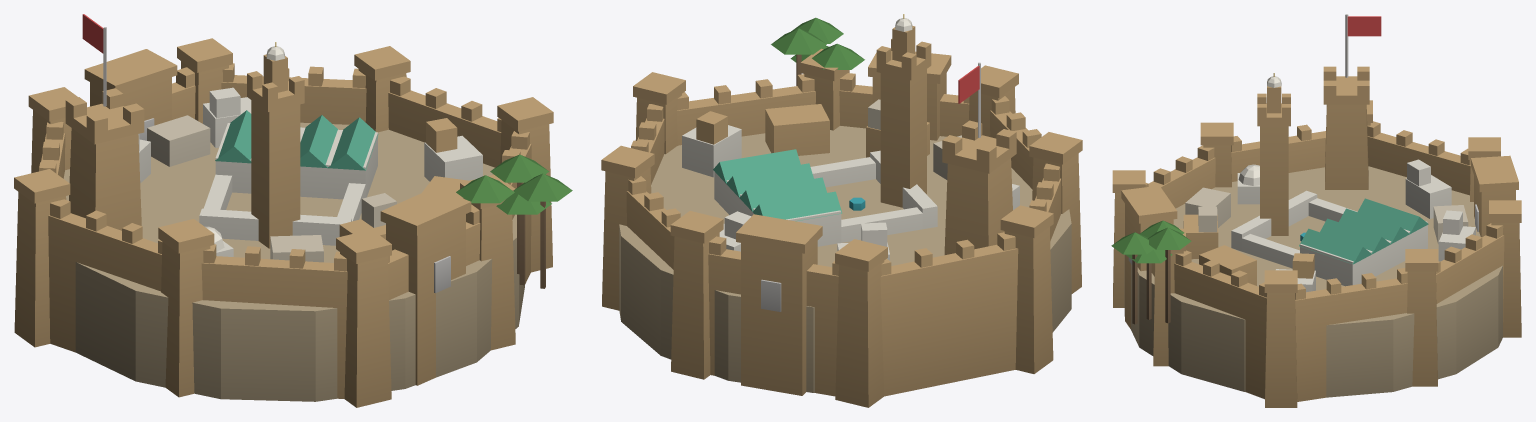
The model's file is town_isl_a.glb.
3 renders of one model, left to right at view 1: azimuth 30°, elevation 25°; view 2: azimuth 150°, elevation 25°; view 3: azimuth 270°, elevation 25°, orthographic. The views are drawn at different scales.
Parts seen in each view (by area): view 1: town_isl_a; view 2: town_isl_a; view 3: town_isl_a.
Boxes of the visible parts, x1=… form: town_isl_a: x1=14, y1=14, x2=572, y2=407; town_isl_a: x1=601, y1=14, x2=1082, y2=407; town_isl_a: x1=1111, y1=14, x2=1521, y2=407.
Size of the model in its own units: 2.01 by 1.22 by 1.9.
